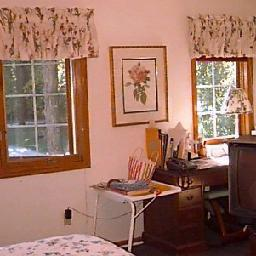Ventana: (3, 23, 87, 161), (192, 23, 251, 136)
